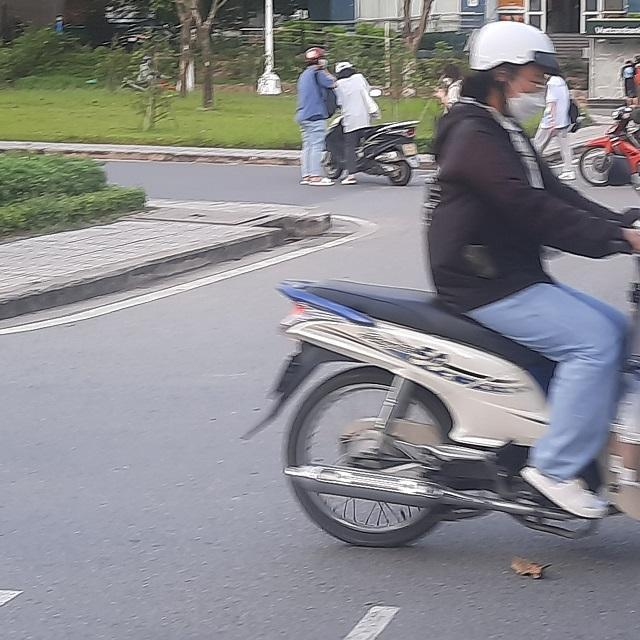Helmet: (466, 24, 554, 120)
